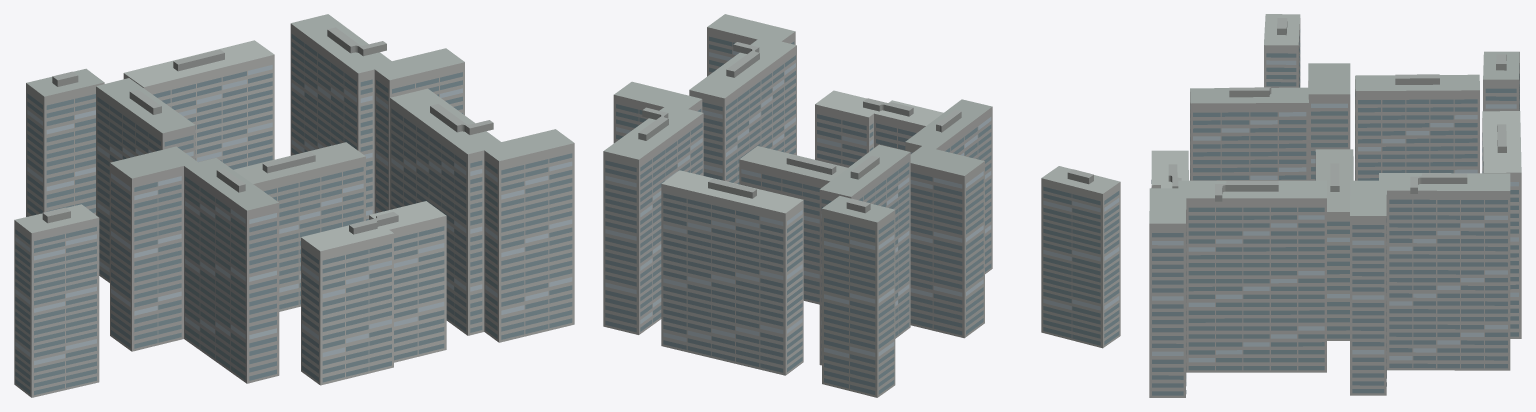
The model's file is apt-a13003406.glb.
The picture shows the model from 3 angles, left to right: view 1: azimuth 30°, elevation 25°; view 2: azimuth 150°, elevation 25°; view 3: azimuth 270°, elevation 25°; orthographic projection. The views are drawn at different scales.
Parts seen in each view (by area): view 1: apt-a13003406; view 2: apt-a13003406; view 3: apt-a13003406.
Part boxes in pixels (bbox=[...]): apt-a13003406: bbox=[14, 14, 574, 397]; apt-a13003406: bbox=[603, 14, 1120, 397]; apt-a13003406: bbox=[1149, 14, 1521, 397].
Size of the model in its own units: 180 by 69 by 125.
